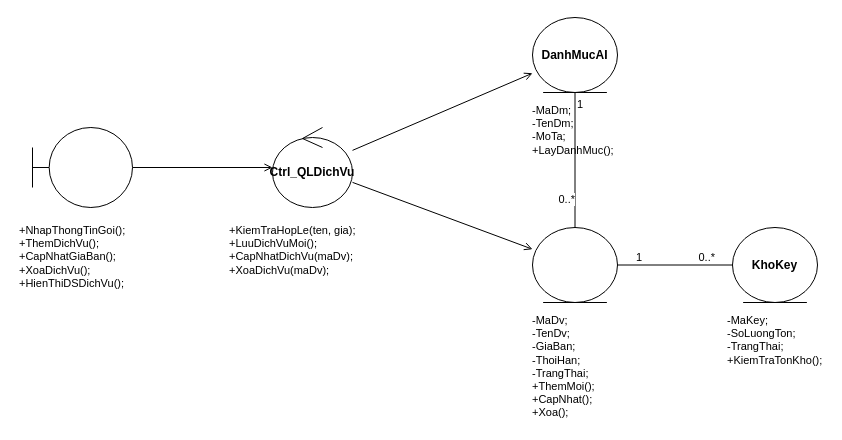
This 842x440 diagram has some shape labels left out. The centre of each missing label's shape, as x and y in pixels:
"DichVuAI" goes at point 575,264.
"Frm_QLDichVu" goes at point 82,167.
